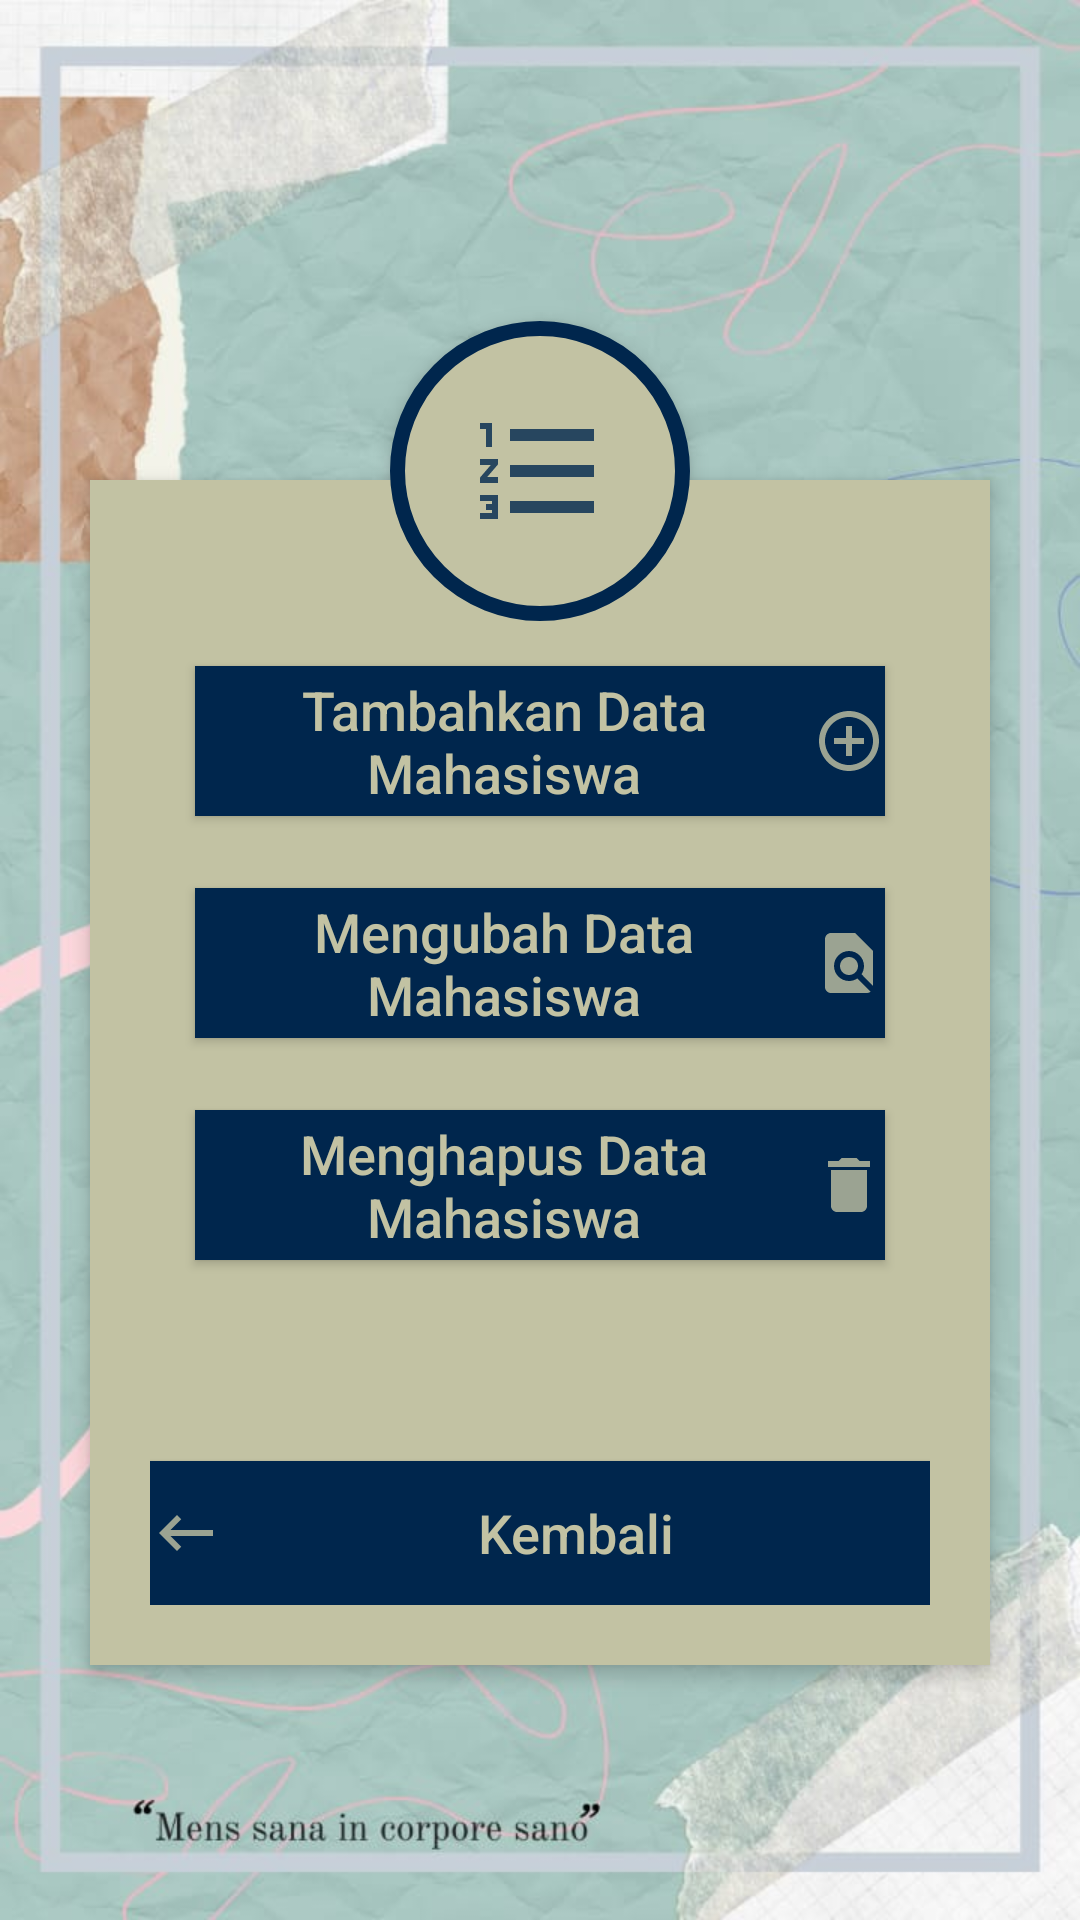

Where to tap for icons on this 1080x1920 app screen, as (x=x, y=y):
pilihan: (x=540, y=471)
